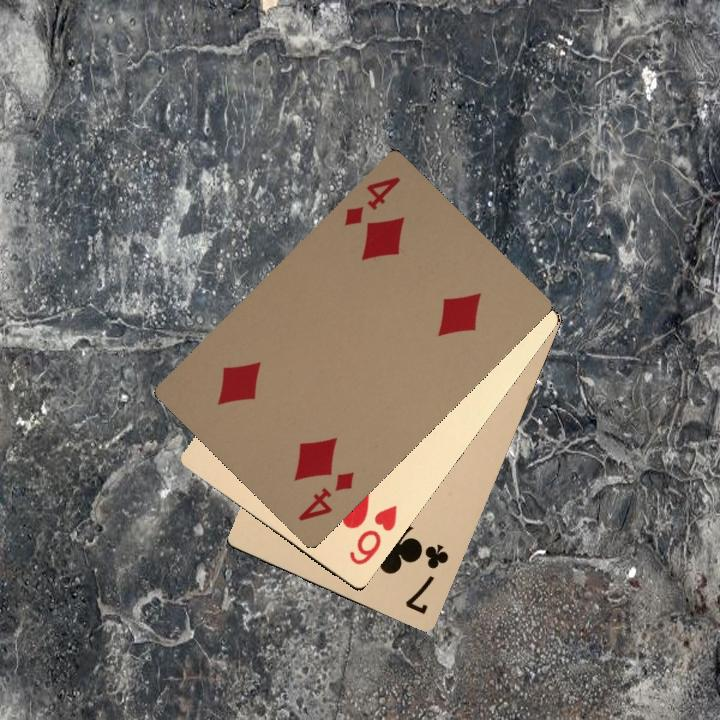4d: (294, 467, 357, 524), (340, 172, 403, 228)
6h: (345, 502, 400, 568)
7c: (401, 539, 451, 617)
